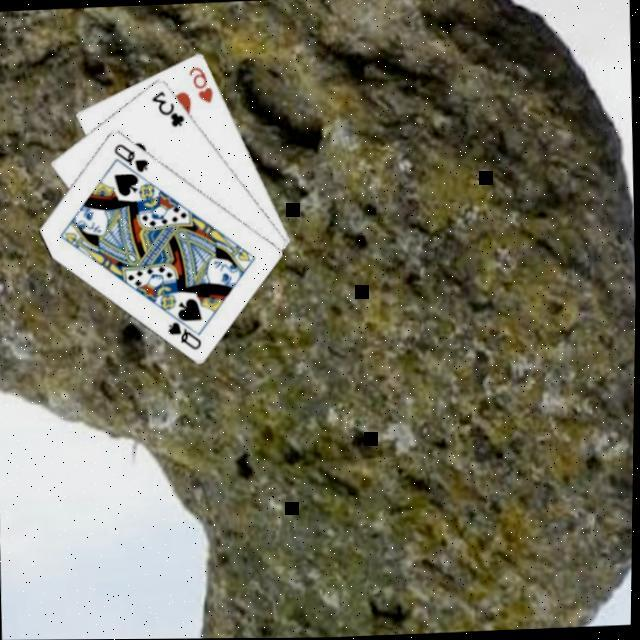3C: (146, 87, 187, 132)
6H: (184, 65, 216, 108)
QS: (109, 141, 150, 177), (164, 319, 205, 355)
